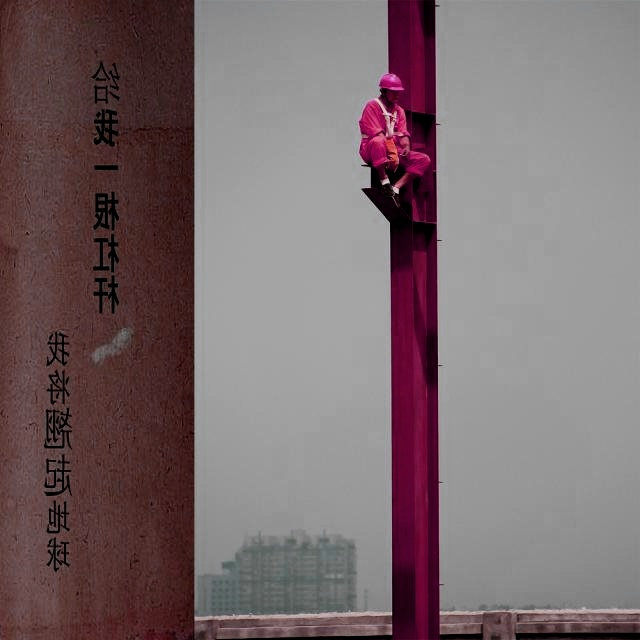Con_Casco: (377, 73, 404, 103)
